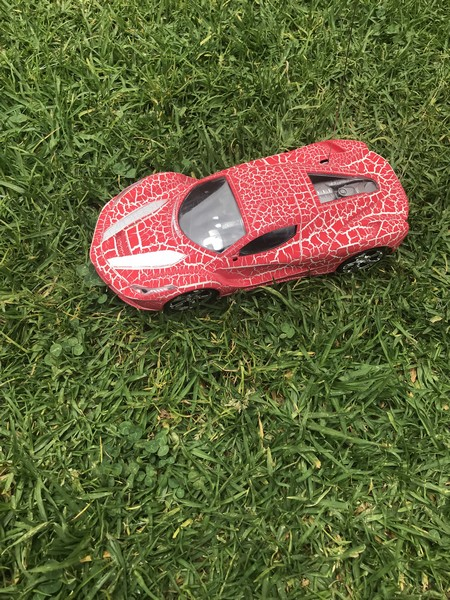RC: (89, 138, 414, 315)
